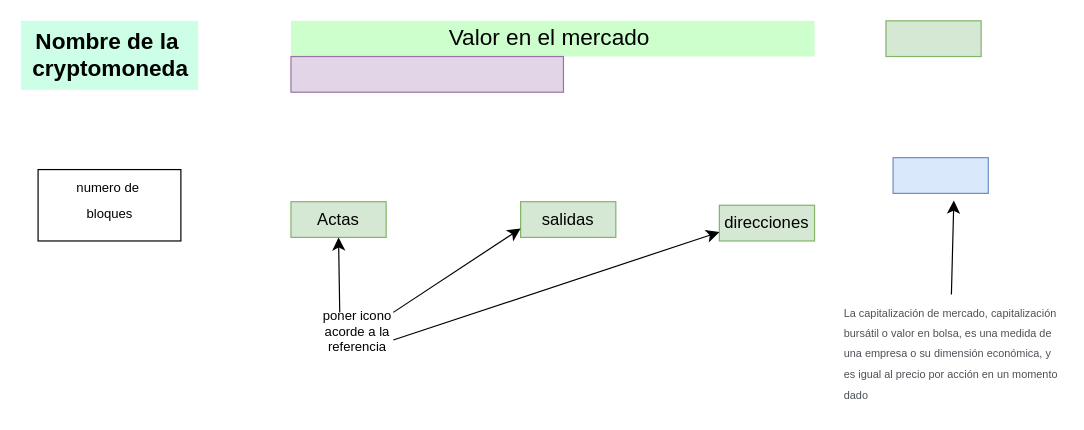
Image size: 1084x430. Some labels were removed from this diagram. The centre of each missing label's shape, as x and y in pixels:
"Circulacion" belongs at (933,38).
"Market cap" belongs at (940,174).
"Tarifa de transaccion recomendada" belongs at (426,73).
